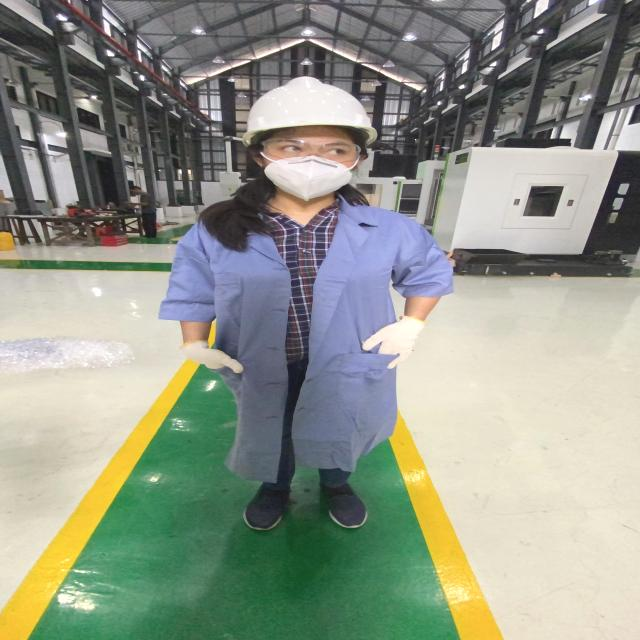face_mask: (262, 137, 362, 199)
glasses: (255, 137, 371, 164)
hand_glove: (358, 317, 428, 367), (182, 340, 248, 374)
head_helmet: (236, 74, 388, 138)
person: (156, 70, 462, 538)
shoes: (235, 477, 304, 533), (315, 476, 375, 530)
